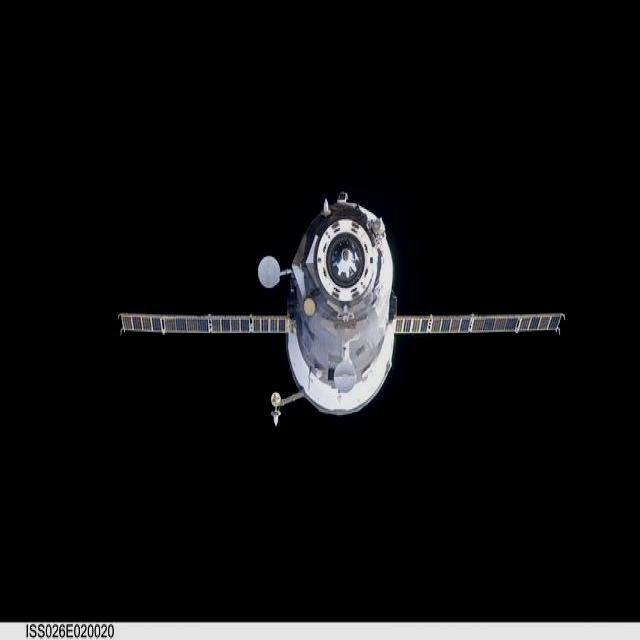medium_debris: (119, 192, 565, 423)
